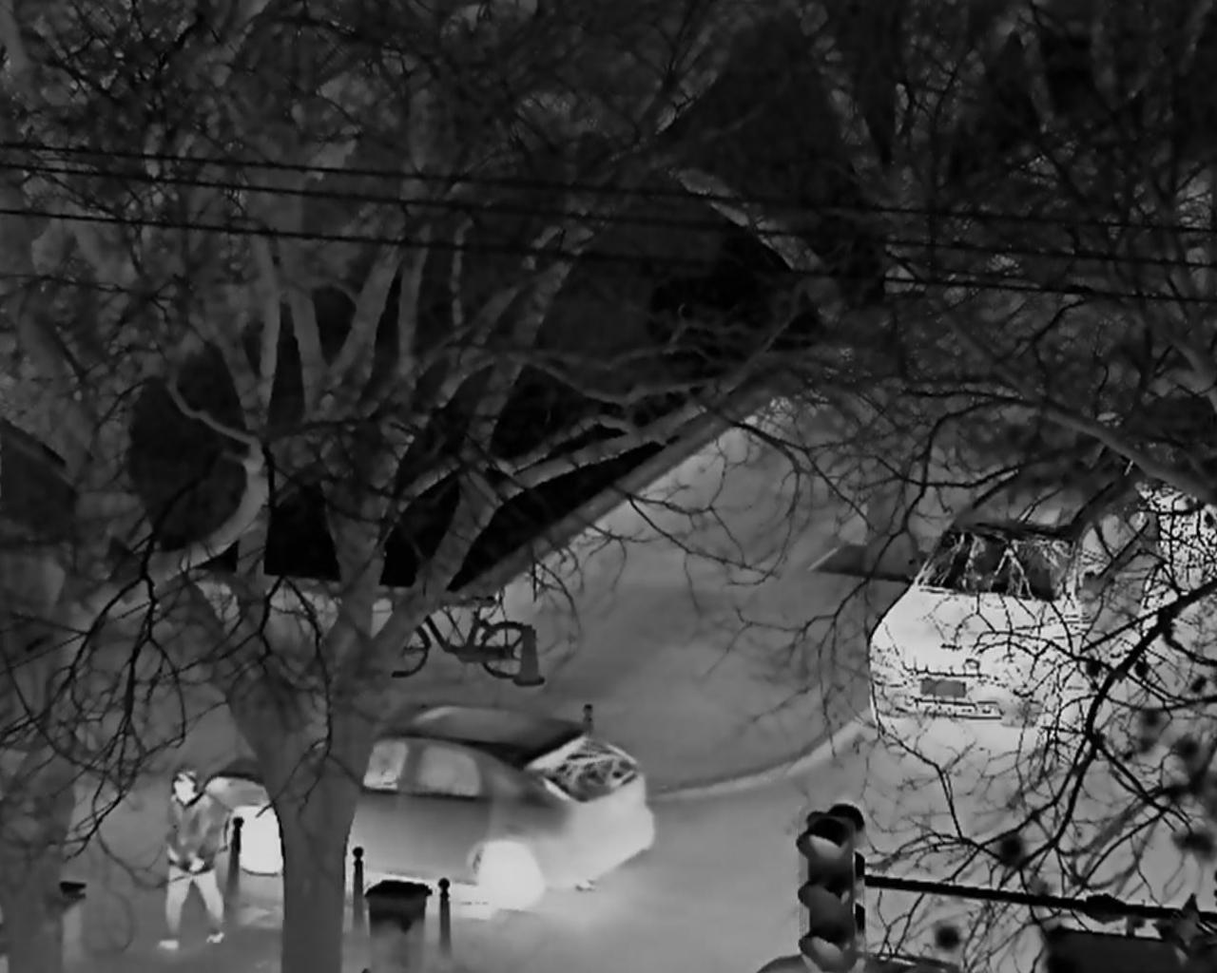person: (155, 766, 226, 947)
